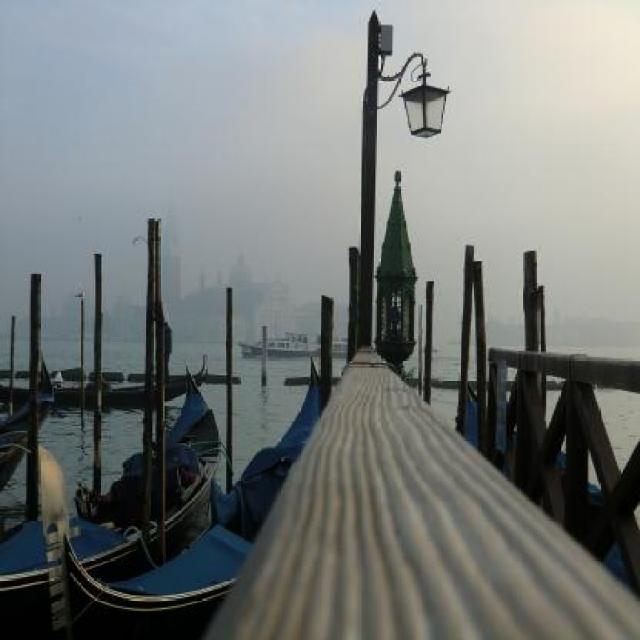ship: (60, 355, 322, 622), (3, 366, 219, 628), (1, 353, 204, 409), (240, 330, 348, 358)
